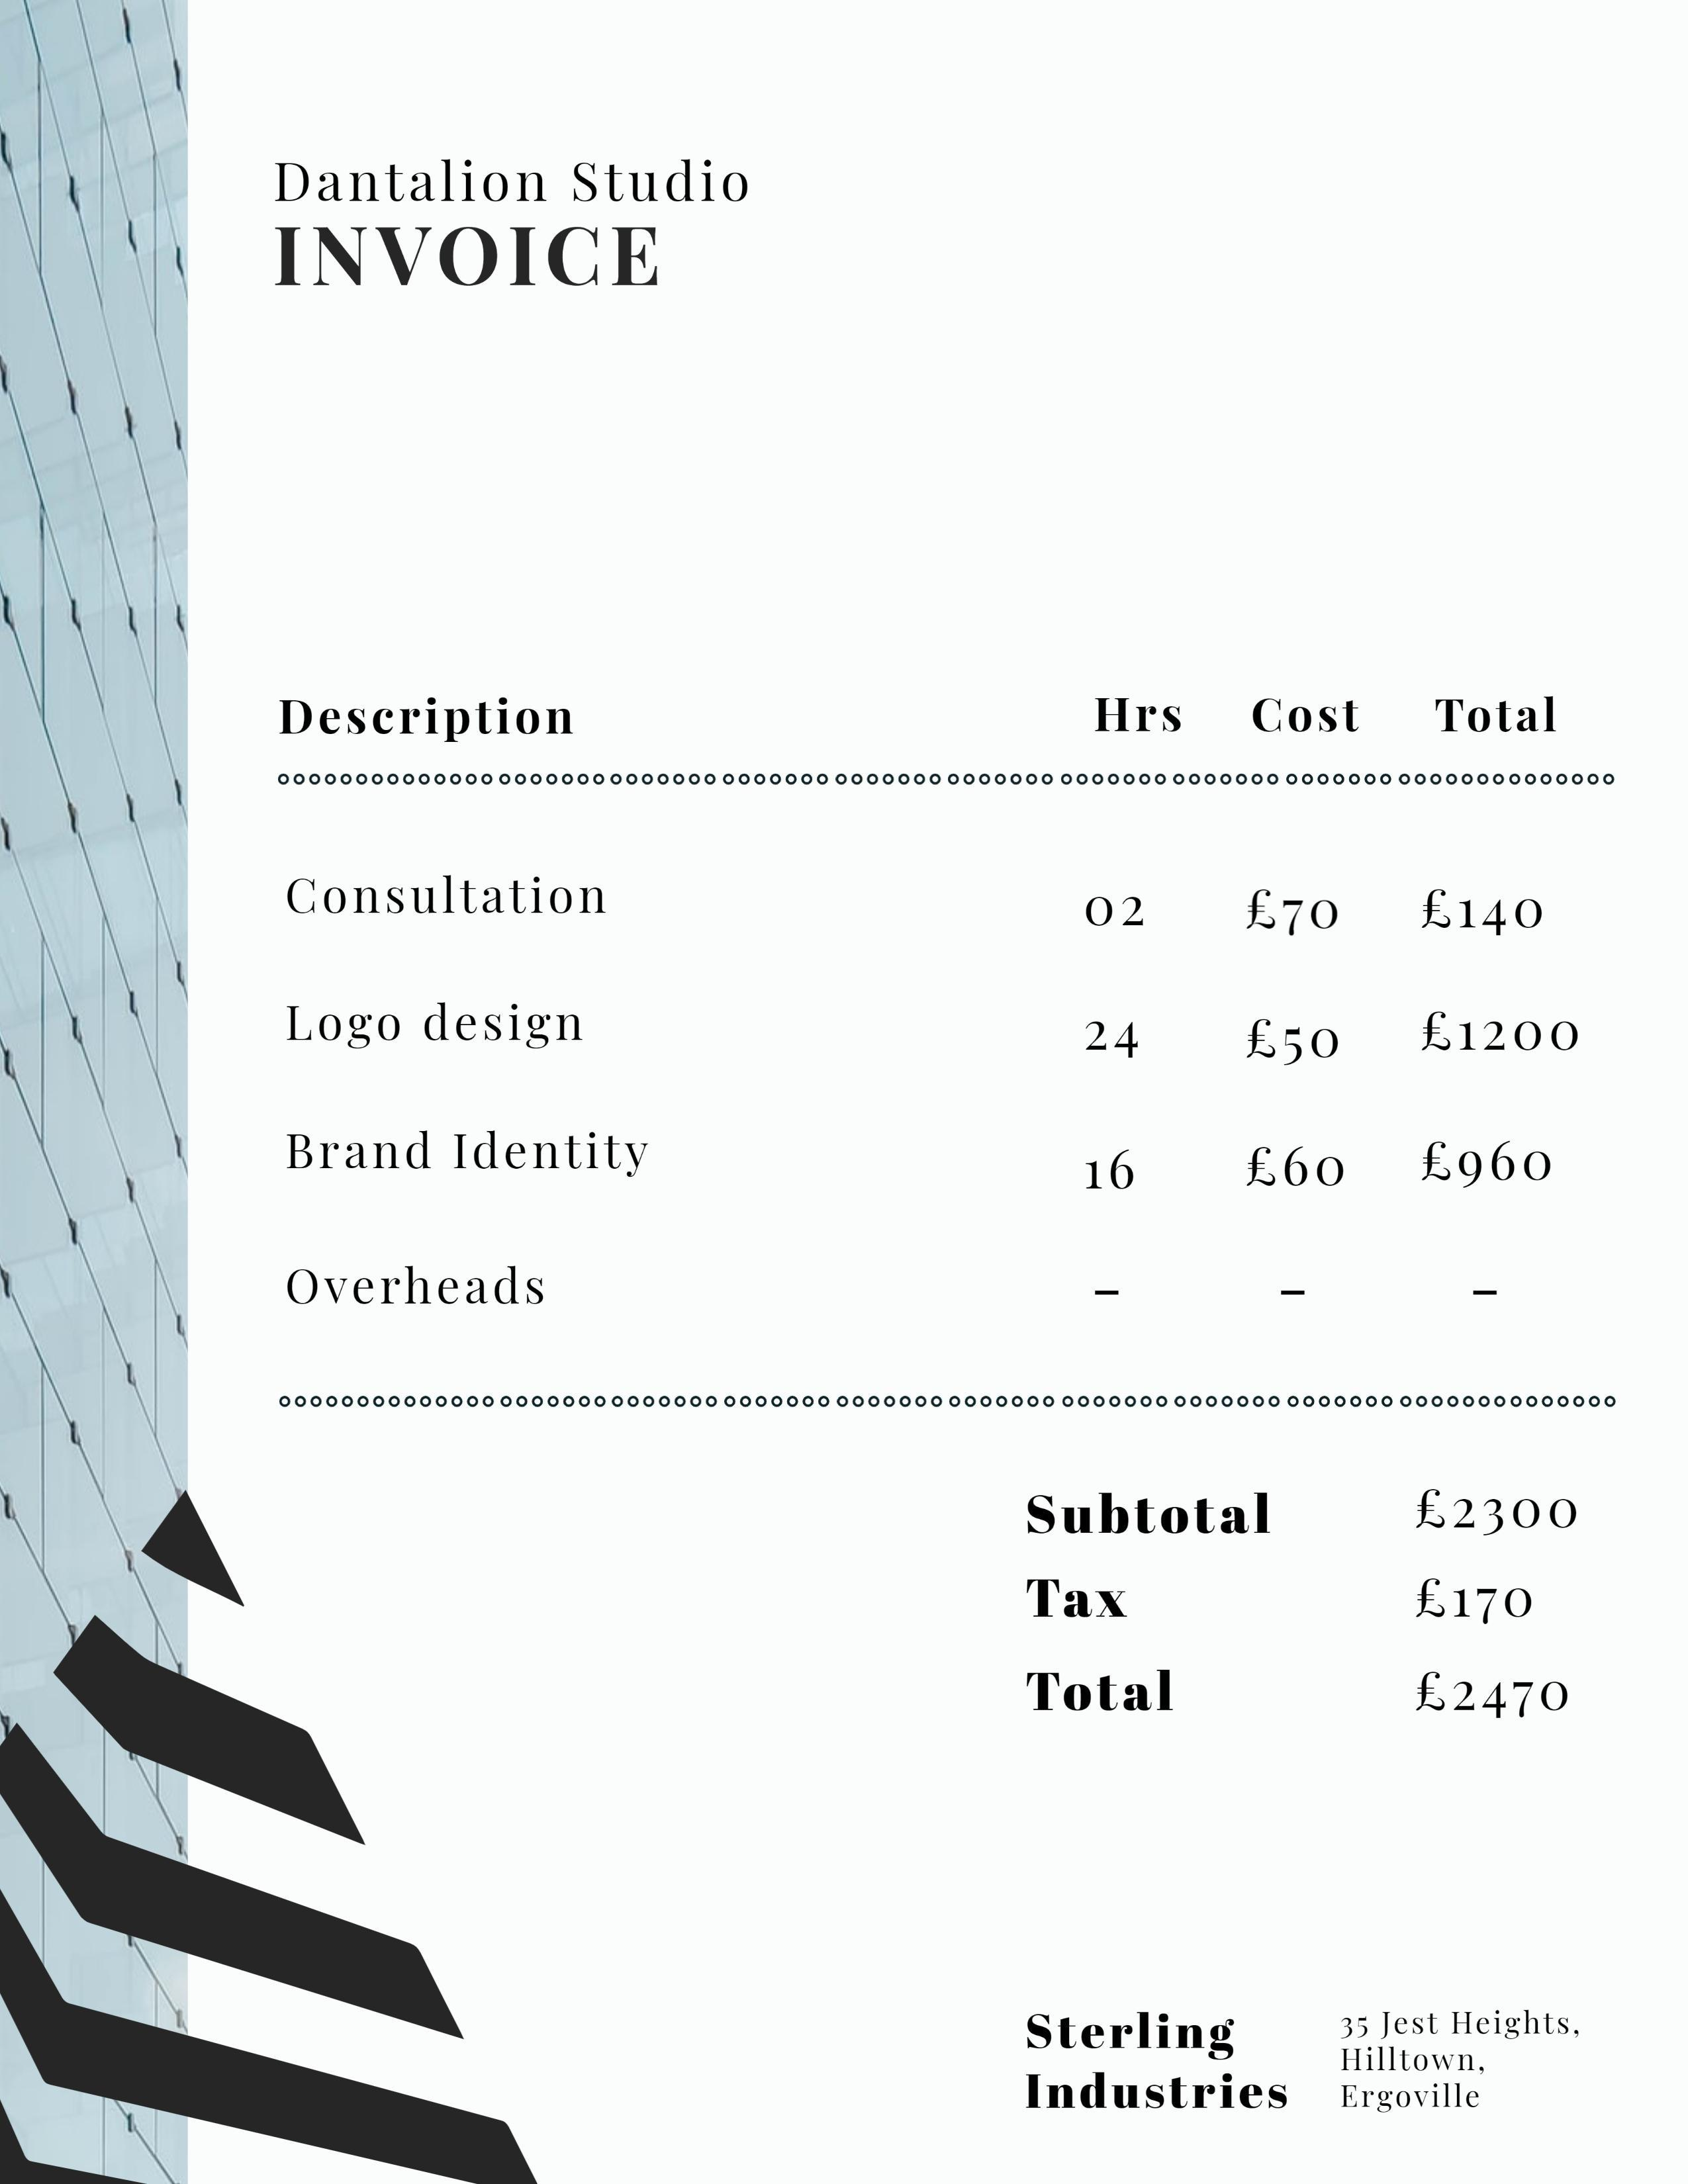ROI: (271, 684, 1628, 1409), (1012, 1486, 1589, 1730), (1023, 1978, 1605, 2145)
